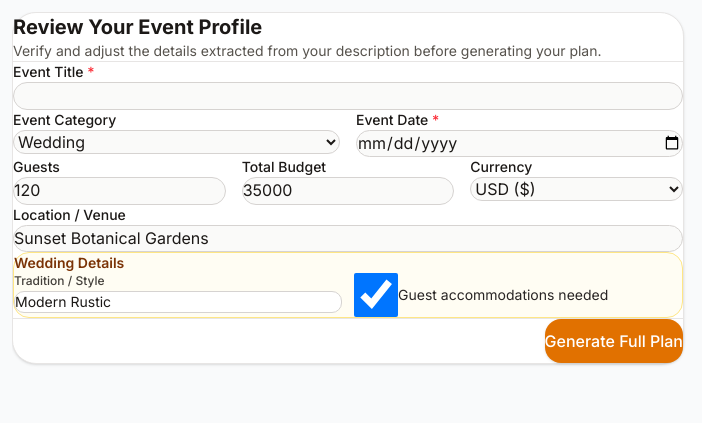
Test: ProfileReviewForm Accessibility and States › displays validation errors and maintains zero axe violations
Step 1. Click the button "Generate Full Plan" → (614, 341), box [545,319,683,363]
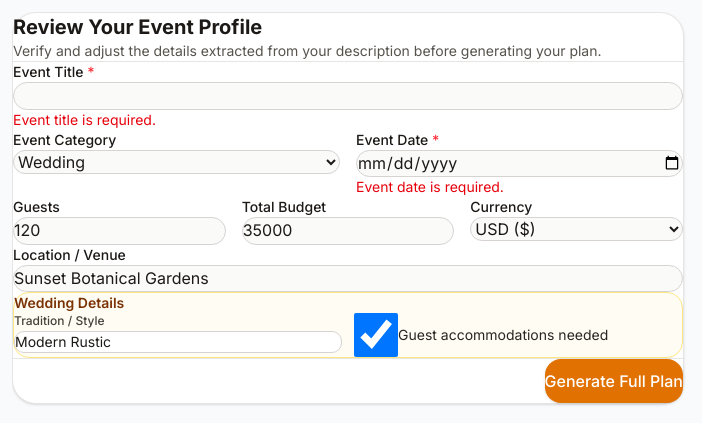
expect the text "Event title is required." is shown: met, box [13,111,156,128]
expect the text "Event date is required." is shown: met, box [356,178,504,195]
